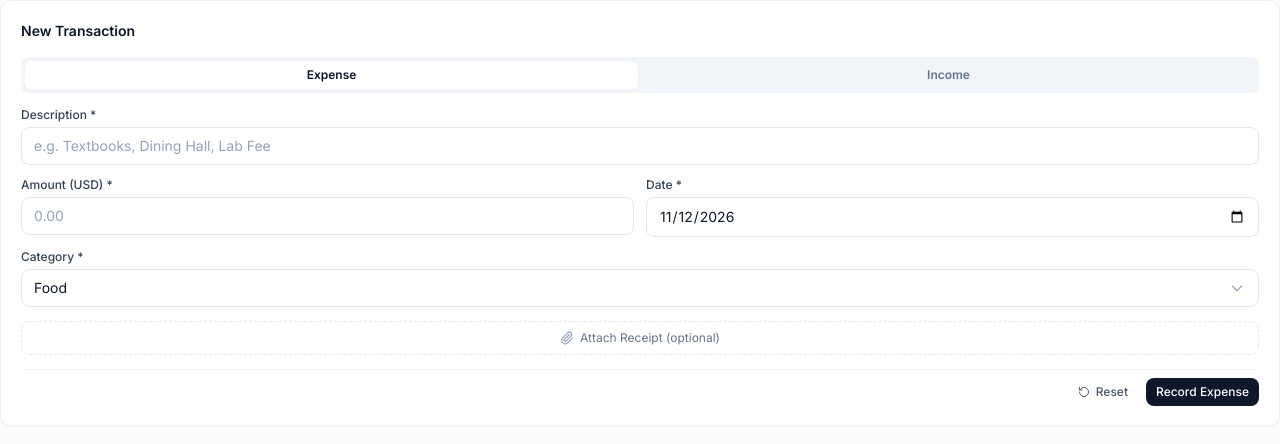
Test: TransactionForm Component › allows toggling between Expense and Income
Step 1. Click the button "Income" → point(948, 75), box x1=642 y1=61 x2=1255 y2=89
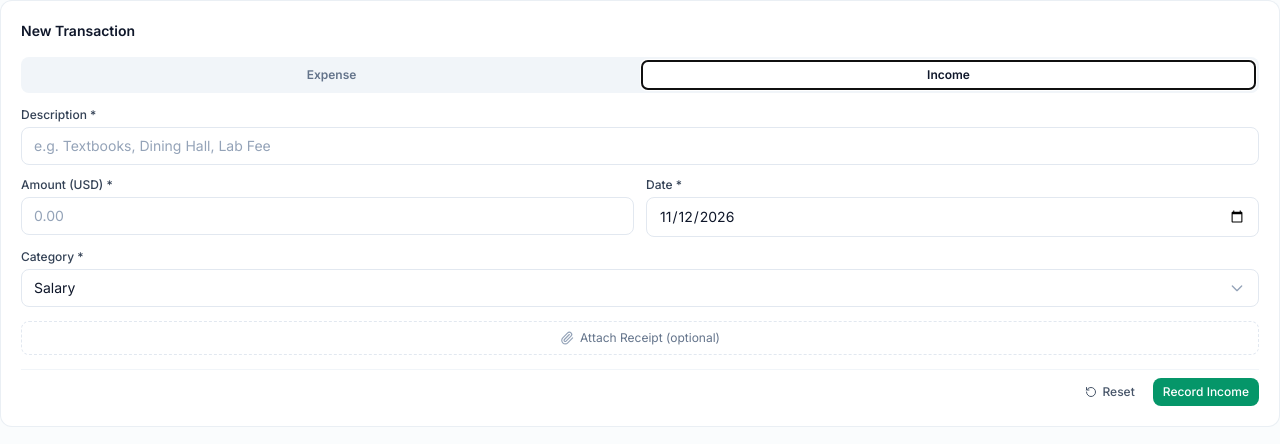
Result: the button "Record Income" is shown at x1=1153 y1=378 x2=1259 y2=406
